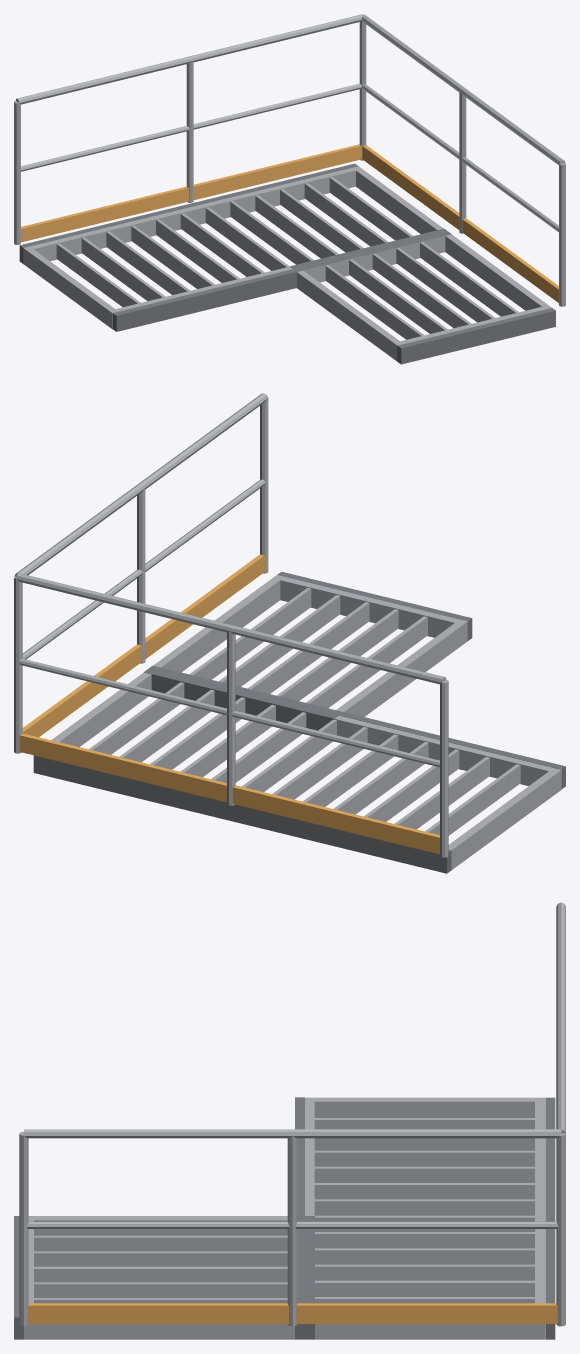
The model's file is modular-greybox-architecture-kit-catwalk-corner-f70642df__22880.glb.
3 renders of one model, top to bottom at view 1: azimuth 30°, elevation 25°; view 2: azimuth 150°, elevation 25°; view 3: azimuth 270°, elevation 25°, orthographic. The views are drawn at different scales.
Parts seen in each view (by area): view 1: catwalk-corner; view 2: catwalk-corner; view 3: catwalk-corner.
Part boxes in pixels (box(x1,y1,x2,y2)): catwalk-corner: box(14, 14, 565, 364); catwalk-corner: box(14, 393, 565, 873); catwalk-corner: box(14, 902, 565, 1339).
Size of the model in its own units: 2.73 by 1.19 by 2.75.
